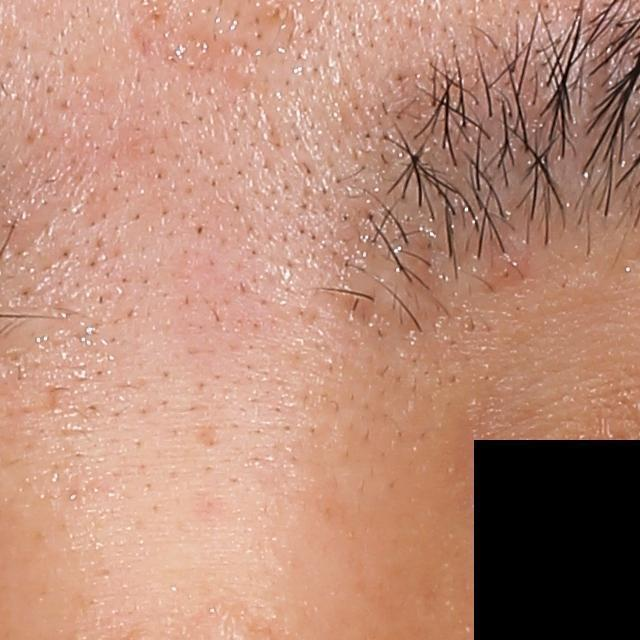atrophic_scar: (194, 419, 217, 450)
comedo: (3, 345, 28, 368)
papule: (488, 245, 531, 281)
